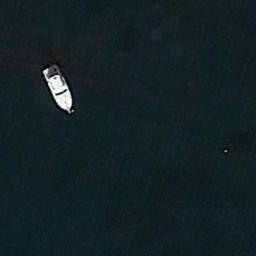boat: (42, 63, 74, 114)
